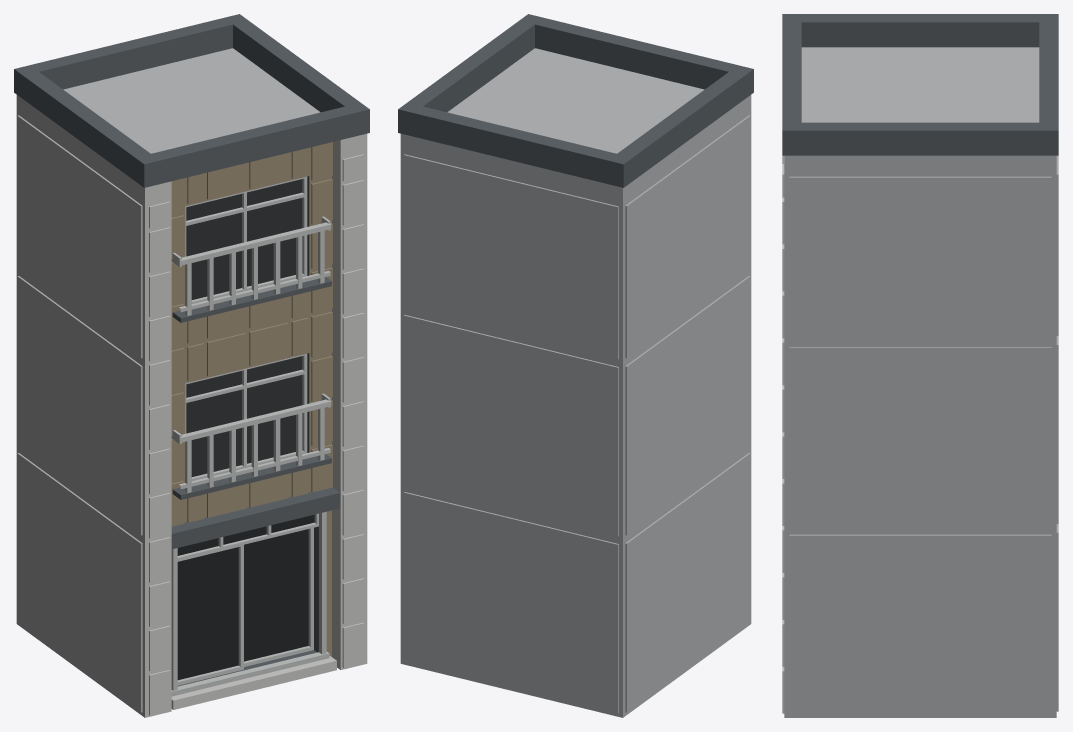
Rendered from three-storey-shophouse-2f6378.glb.
3 renders of one model, left to right at view 1: azimuth 30°, elevation 25°; view 2: azimuth 150°, elevation 25°; view 3: azimuth 270°, elevation 25°, orthographic. The views are drawn at different scales.
Visible parts, largest first — view 1: three-storey-shophouse-2f6378; view 2: three-storey-shophouse-2f6378; view 3: three-storey-shophouse-2f6378.
Boxes of the visible parts, box(x1,y1,x2,y2) form: three-storey-shophouse-2f6378: box(14, 14, 369, 717); three-storey-shophouse-2f6378: box(398, 14, 753, 717); three-storey-shophouse-2f6378: box(782, 14, 1058, 717).
Bounding box in the file's own units: 4 × 9.4 × 4.
